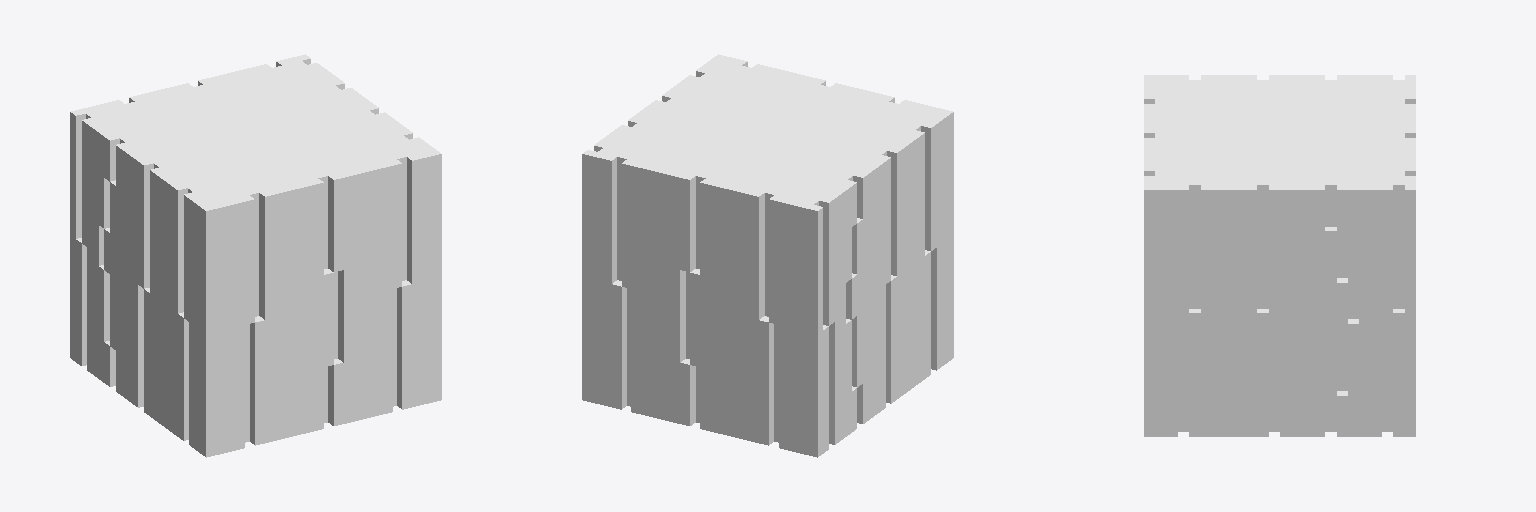
The model's file is Wooden_Walls.obj.
The picture shows the model from 3 angles: view 1: azimuth 30°, elevation 25°; view 2: azimuth 150°, elevation 25°; view 3: azimuth 270°, elevation 25°; orthographic projection.
Parts seen in each view (by area): view 1: object 1; view 2: object 1; view 3: object 1.
Boxes of the visible parts, x1,y1,x2,y2 form: object 1: [70, 54, 441, 457]; object 1: [582, 54, 953, 457]; object 1: [1144, 75, 1415, 436].
Size of the model in its own units: 2.4 by 2.4 by 2.4.